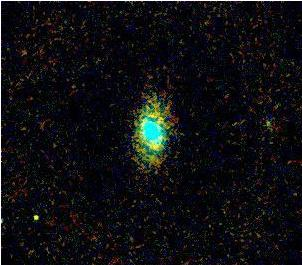star: (22, 202, 52, 232)
